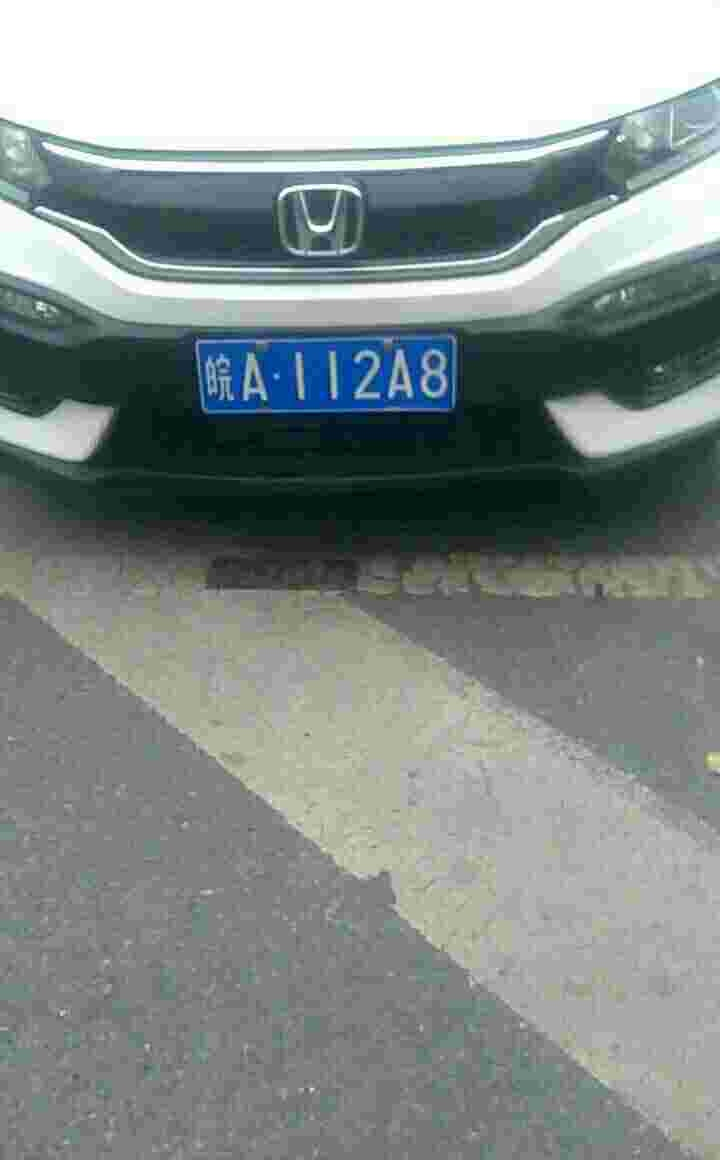license_plate: (205, 339, 457, 422)
